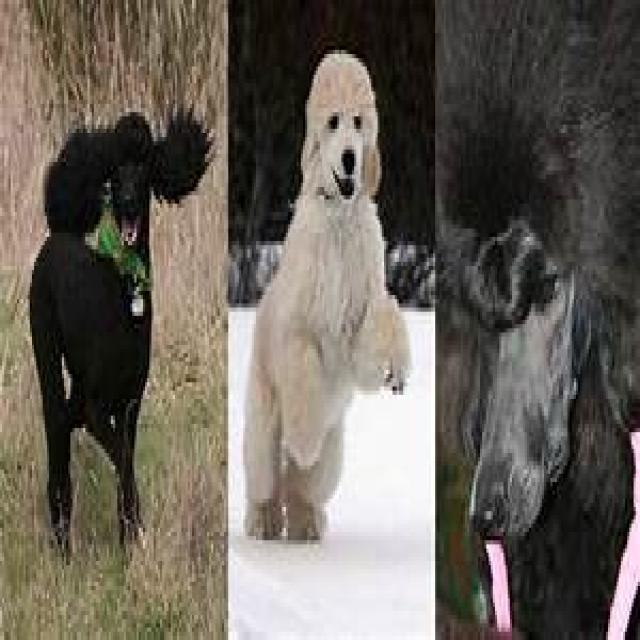dog: (435, 0, 640, 640), (241, 50, 412, 544), (28, 112, 207, 557)
